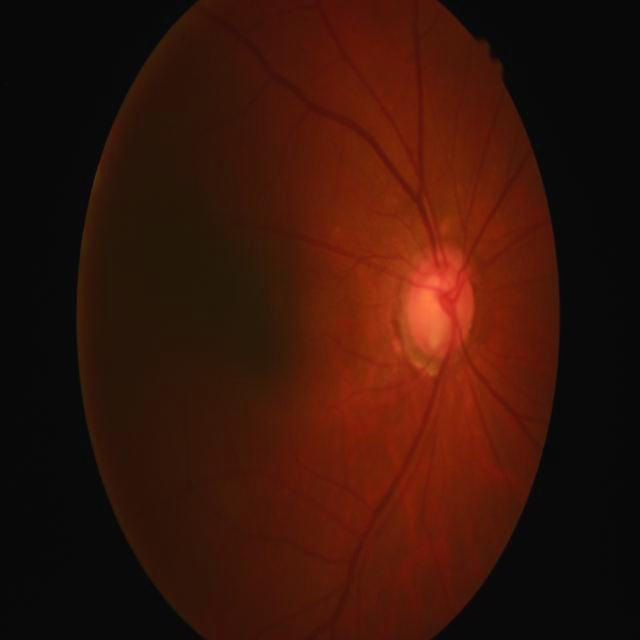cup: (422, 268, 462, 347)
disk: (406, 248, 476, 359)
